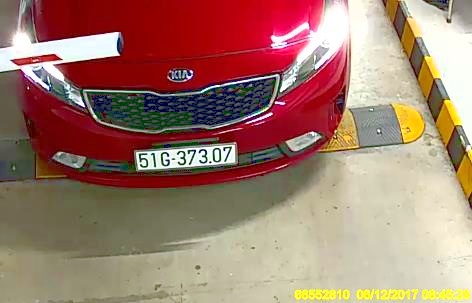plate: (134, 140, 238, 173)
